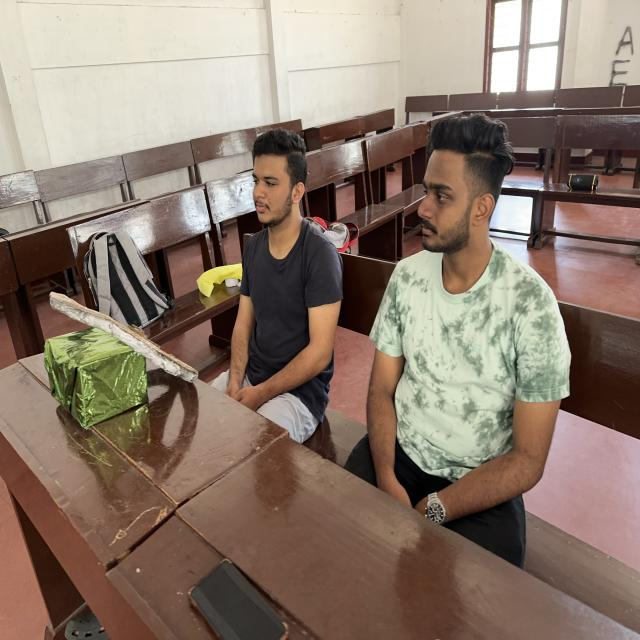no-seatbelt: (374, 240, 566, 500), (236, 232, 336, 421)
